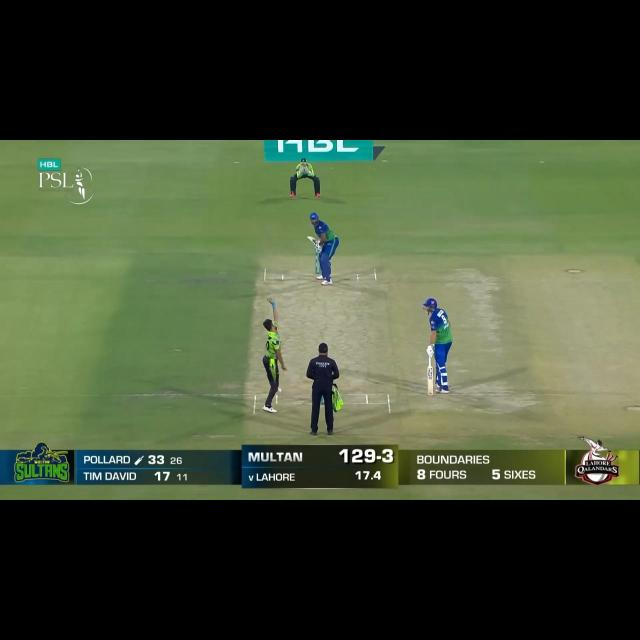bat: (427, 368, 434, 394), (305, 234, 318, 245)
toe: (427, 389, 434, 396), (306, 236, 314, 240)
